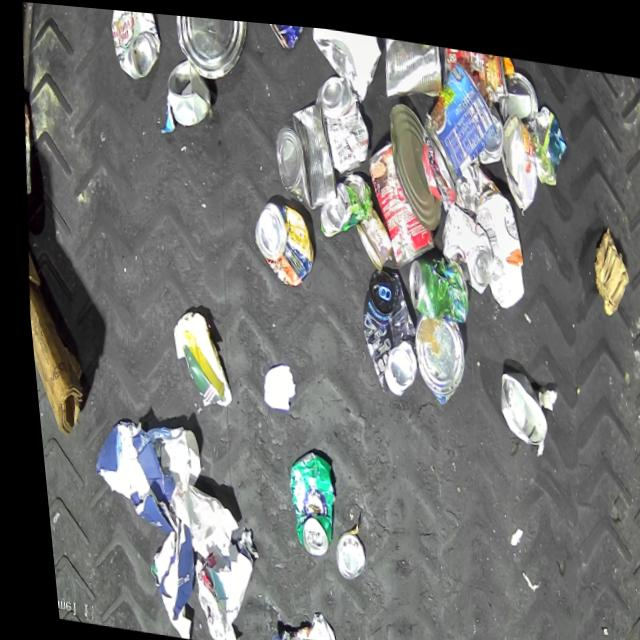can: (411, 46, 503, 181), (357, 129, 440, 265), (348, 260, 421, 392), (265, 88, 343, 208), (380, 94, 446, 223), (307, 66, 374, 171), (272, 442, 332, 555), (245, 194, 316, 285), (431, 192, 494, 287), (403, 307, 465, 400), (170, 12, 252, 81), (492, 101, 541, 204), (398, 245, 465, 317), (311, 161, 373, 237), (380, 30, 447, 100), (487, 362, 545, 442), (105, 7, 166, 81), (438, 39, 510, 93), (161, 52, 214, 124), (347, 199, 392, 265), (494, 58, 541, 118), (473, 92, 505, 159), (15, 99, 36, 200), (322, 524, 358, 576), (265, 19, 323, 50)
